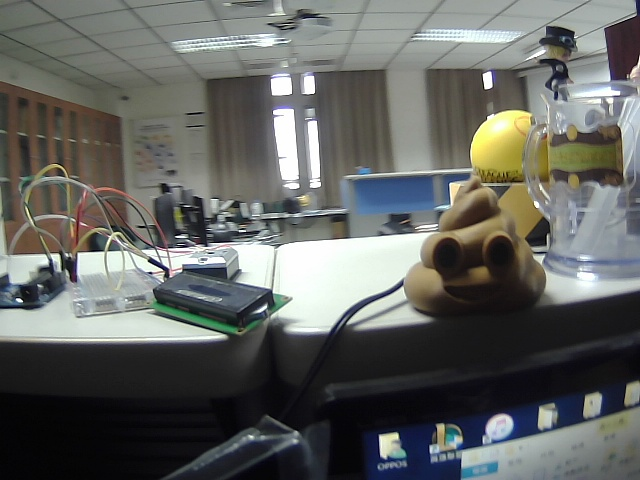shit: (396, 171, 561, 332)
